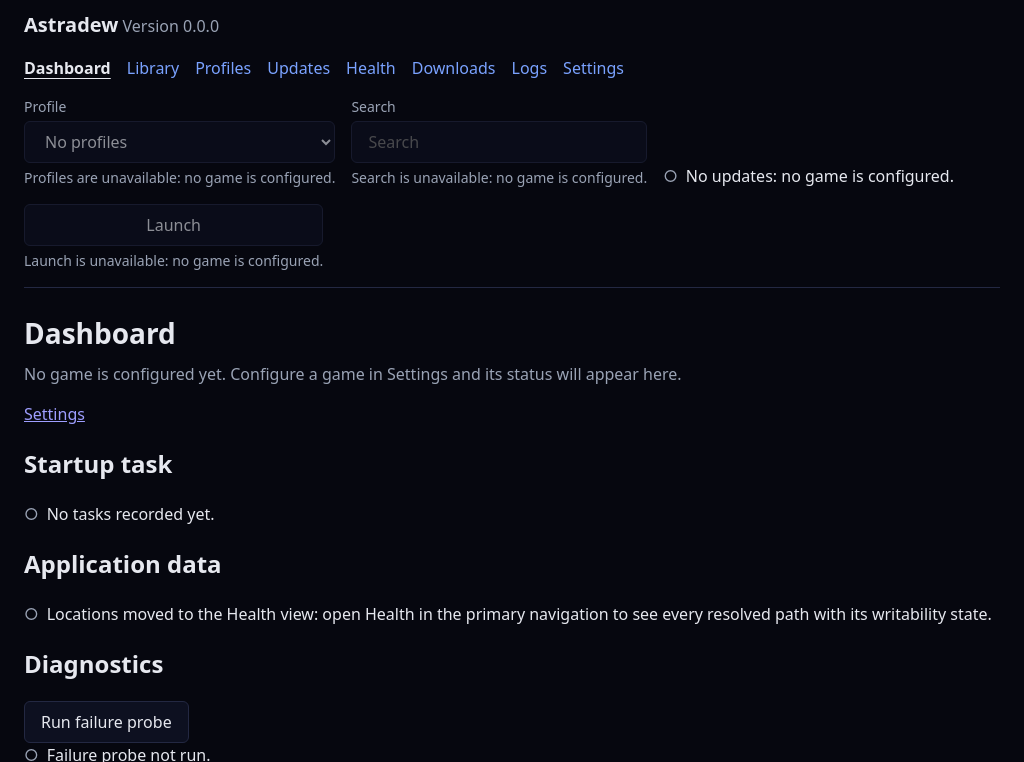
Test case: failure probe › rejection without a typed code shows the unexpected state
Check: the text "Astradew" is shown, box [24,11,118,38]
Click the button "Run failure probe" at (106, 722), box [24,701,189,743]
(page scrolled)
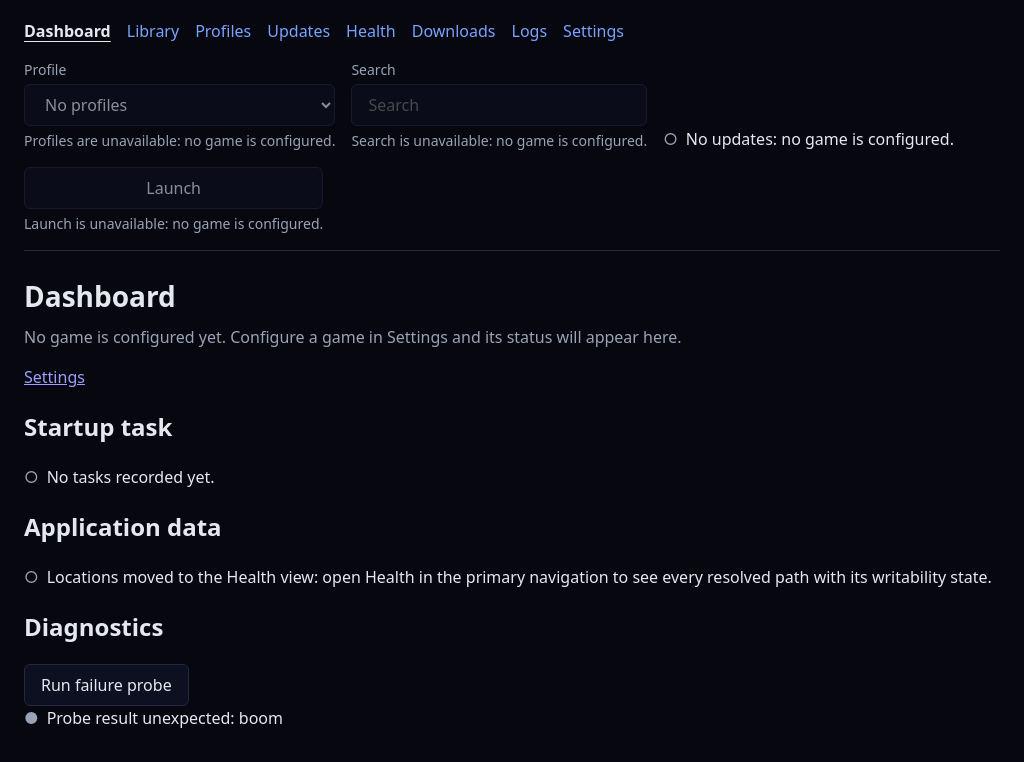
Check: the text "Probe result unexpected: boom" is shown, box [47,706,283,730]
